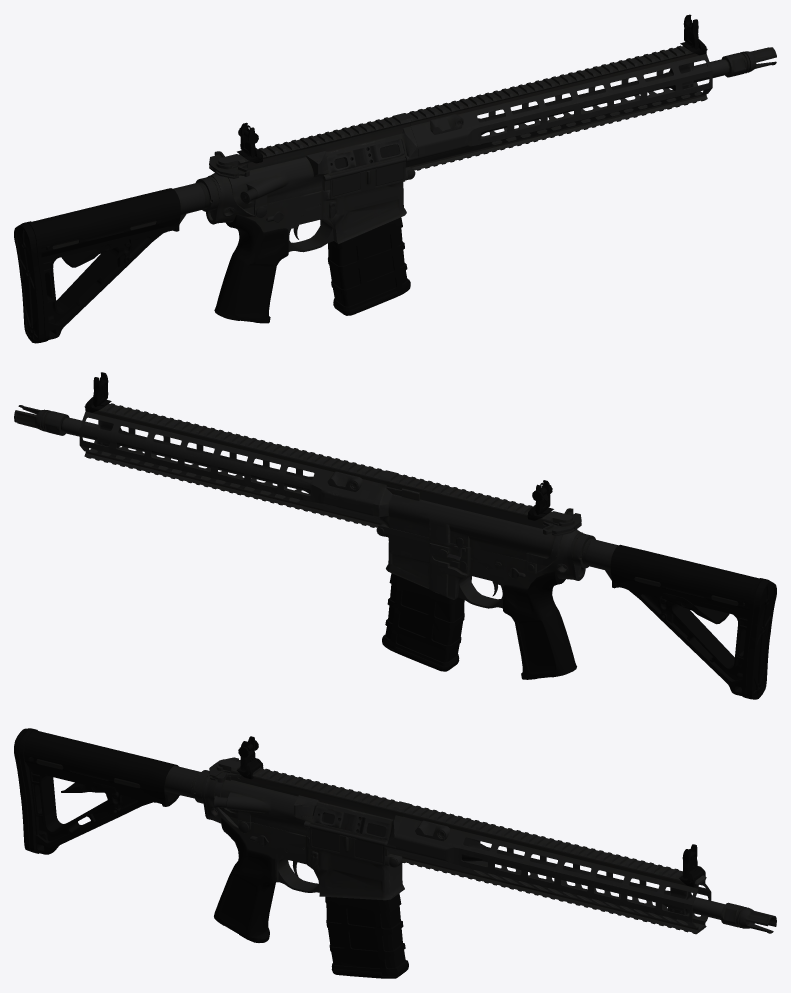
The picture shows the model from 3 angles, top to bottom: view 1: azimuth 30°, elevation 25°; view 2: azimuth 150°, elevation 25°; view 3: azimuth 330°, elevation 25°; orthographic projection.
Visible parts, largest first — view 1: Object_2, Object_3, Object_4; view 2: Object_2, Object_3, Object_4; view 3: Object_2, Object_3, Object_4.
Part boxes in pixels (x1,y1,x2,y2): Object_2: (208,45,712,243); Object_3: (14,14,706,343); Object_4: (52,47,776,252); Object_2: (79,403,582,599); Object_3: (85,372,776,699); Object_4: (14,405,744,608); Object_2: (204,759,711,934); Object_3: (14,728,705,978); Object_4: (36,757,776,933).
Bounding box in the file's own units: 20.32 × 5.38 × 1.55.
3 materials, 2 textured.
